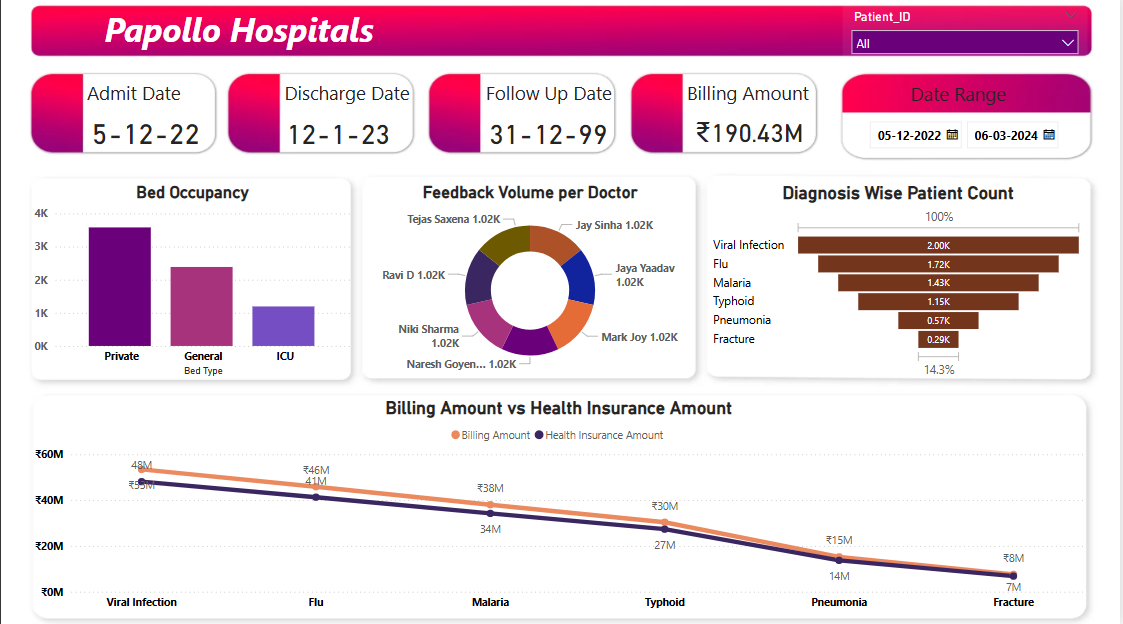

The dashboard page shown, as its layout file describes it:
{"tool":"powerbi","page":{"name":"Page 1","canvas":[1280,720],"ordinal":0},"visuals":[{"type":"slicer","fields":{"Values":["Sheet1.Patient_ID"]},"box":[963.3,11,279.9,63.1],"z":0},{"type":"textbox","box":[113.9,8.2,352.7,67.2],"z":1},{"type":"card","fields":{"Values":["Sheet1.Admit_Date"]},"box":[94.7,134.5,144.1,45.3],"z":2},{"type":"textbox","box":[94.7,91.9,146.8,42.5],"z":3},{"type":"card","fields":{"Values":["Sheet1.Discharge_Date"]},"box":[308.8,133.9,156.8,45.8],"z":4},{"type":"textbox","box":[319.7,91.9,171.5,42.5],"z":5},{"type":"textbox","box":[550.1,91.7,155.6,38.6],"z":6},{"type":"card","fields":{"Values":["Sheet1.Followup Date"]},"box":[548.9,133.9,156.8,45.8],"z":7},{"type":"textbox","box":[780.6,91.7,156.8,38.6],"z":8},{"type":"card","fields":{"Values":["Sheet1.Billing Amount"]},"box":[775.7,130.3,161.7,53.1],"z":9},{"type":"slicer","fields":{"Values":["Sheet1.Admit_Date"]},"box":[980.8,133.9,240.1,45.8],"z":10},{"type":"columnChart","title":" Bed Occupancy ","fields":{"Category":["Sheet1.Bed_Occupancy"],"Y":["Sheet1.Bed_Occupancy"]},"box":[33.8,214.7,371.6,226.8],"z":11},{"type":"donutChart","title":"Feedback Volume per Doctor","fields":{"Category":["Sheet1.Doctor"],"Y":["Sheet1.Doctor"]},"box":[417.4,214.7,377.6,225.6],"z":12},{"type":"funnel","title":"Diagnosis Wise Patient Count","fields":{"Category":["Sheet1.Diagnosis"],"Y":["Sheet1.Diagnosis"]},"box":[809.5,214.7,433.1,228],"z":13},{"type":"lineChart","title":"Billing Amount vs Health Insurance Amount ","fields":{"Y":["Sheet1.Billing Amount","Sheet1.Health Insurance Amount"],"Category":["Sheet1.Diagnosis"]},"box":[33.8,459.7,1208.9,252.1],"z":14},{"type":"textbox","box":[1036.3,92.9,131.5,42.2],"z":15}]}

Visuals, with their boxes in screenshot pixels (x1, y1, x2, y2), scaled from the page's 1280x720 canvas onto the 1123x624 screenshot:
slicer - Sheet1.Patient_ID: locate(845, 10, 1091, 64)
textbox: locate(100, 7, 409, 65)
card - Sheet1.Admit_Date: locate(83, 117, 210, 156)
textbox: locate(83, 80, 212, 116)
card - Sheet1.Discharge_Date: locate(271, 116, 408, 156)
textbox: locate(280, 80, 431, 116)
textbox: locate(483, 79, 619, 113)
card - Sheet1.Followup Date: locate(482, 116, 619, 156)
textbox: locate(685, 79, 822, 113)
card - Sheet1.Billing Amount: locate(681, 113, 822, 159)
slicer - Sheet1.Admit_Date: locate(860, 116, 1071, 156)
" Bed Occupancy " columnChart: locate(30, 186, 356, 383)
"Feedback Volume per Doctor" donutChart: locate(366, 186, 697, 382)
"Diagnosis Wise Patient Count" funnel: locate(710, 186, 1090, 384)
"Billing Amount vs Health Insurance Amount " lineChart: locate(30, 398, 1090, 617)
textbox: locate(909, 81, 1025, 117)
